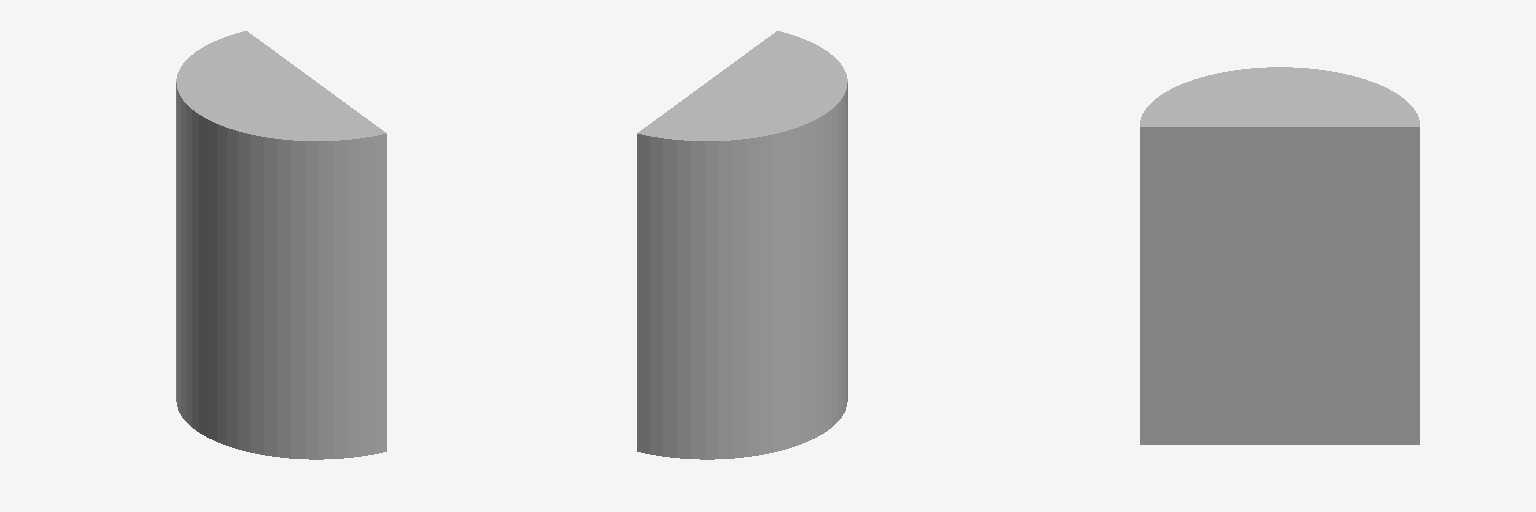
File: MotorLeft.obj
The picture shows the model from 3 angles: view 1: azimuth 30°, elevation 25°; view 2: azimuth 150°, elevation 25°; view 3: azimuth 270°, elevation 25°; orthographic projection.
Visible parts, largest first — view 1: MotorLeft; view 2: MotorLeft; view 3: MotorLeft.
Boxes of the visible parts, x1,y1,x2,y2 form: MotorLeft: [176, 31, 386, 459]; MotorLeft: [637, 31, 847, 459]; MotorLeft: [1140, 67, 1419, 444].
Size of the model in its own units: 3.99 by 10 by 8.